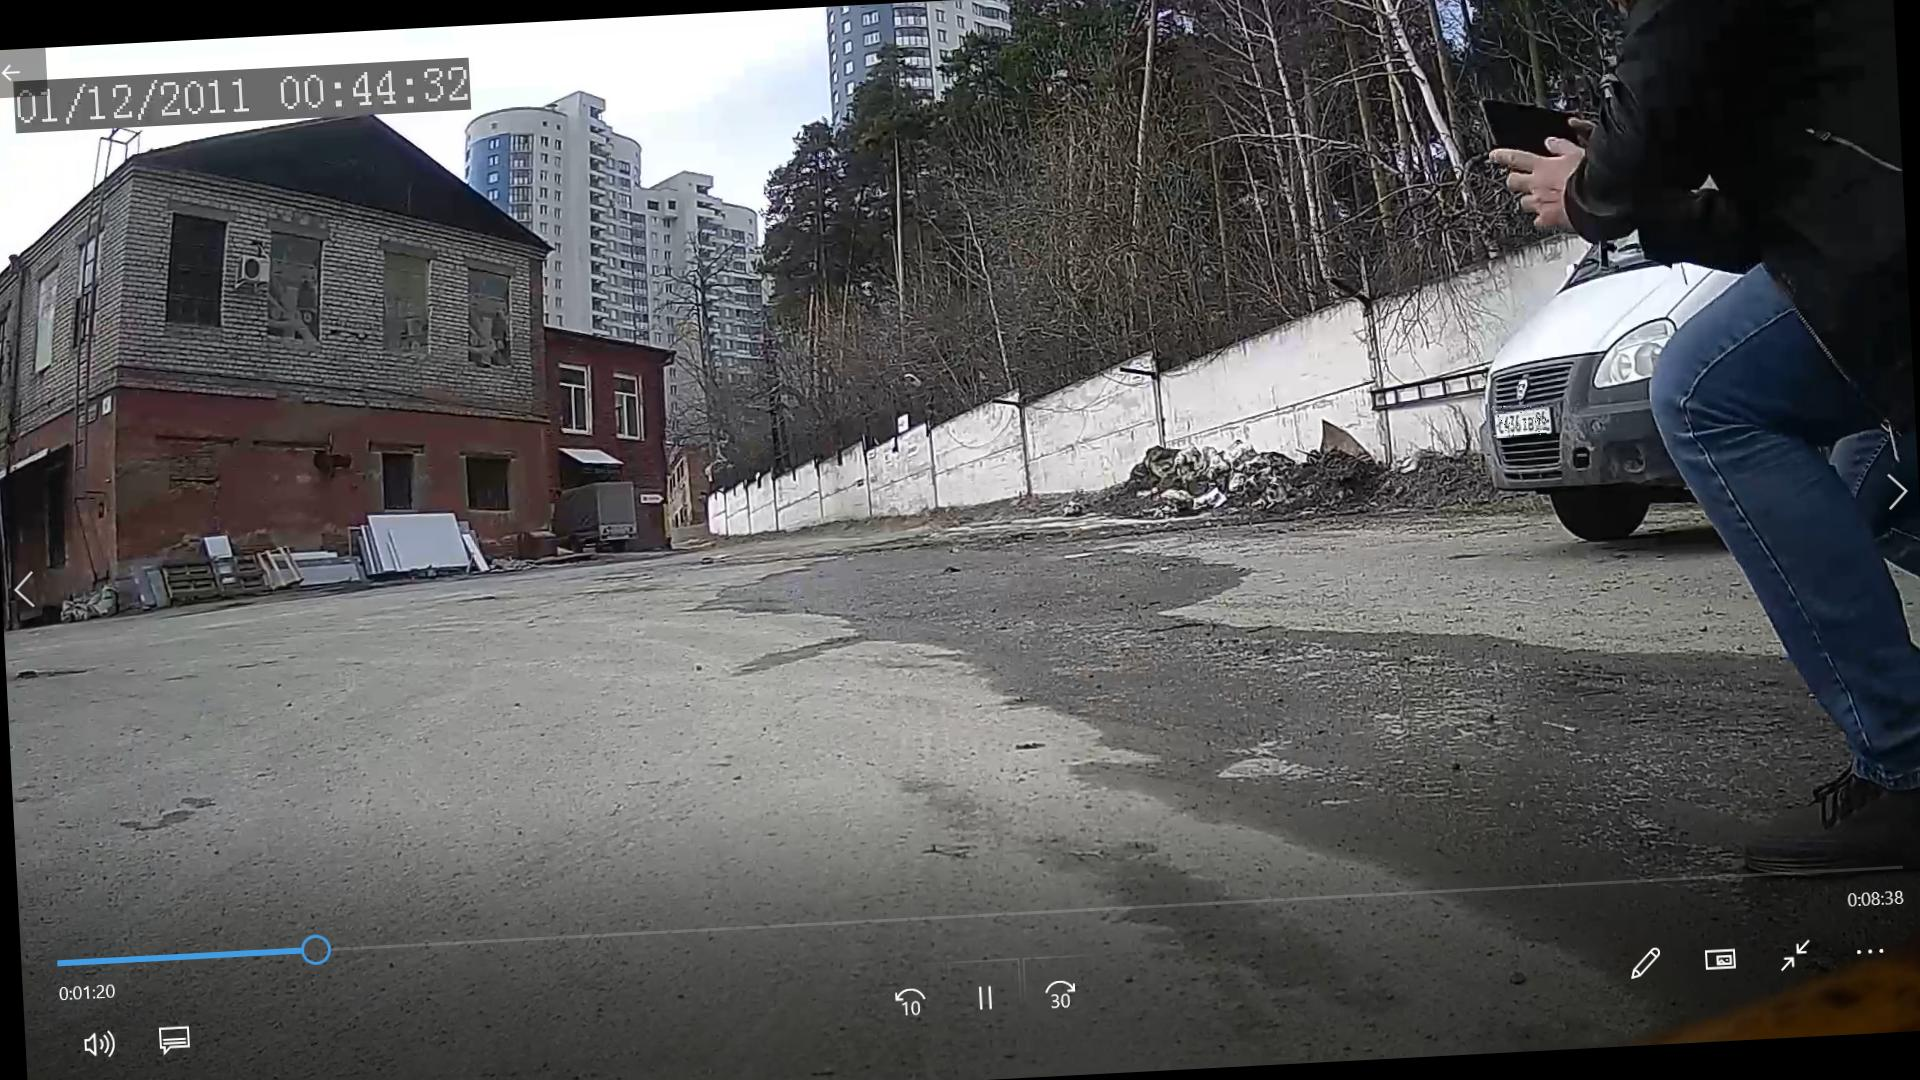plate: (1490, 405, 1548, 439)
